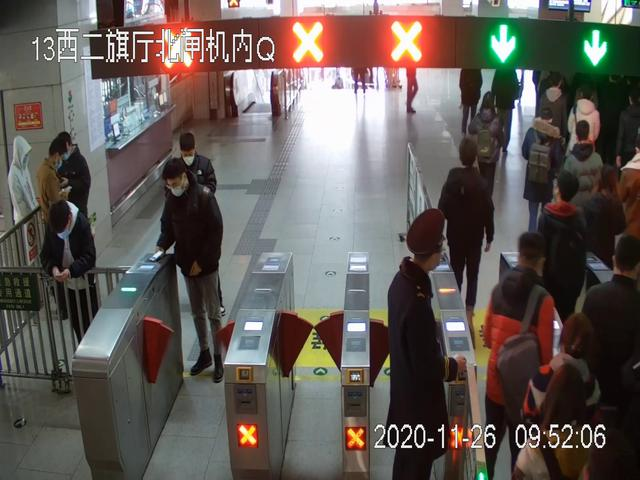person: (384, 210, 467, 480), (484, 233, 554, 480), (513, 313, 617, 478), (151, 160, 225, 383), (439, 137, 494, 338), (41, 200, 97, 358), (538, 171, 587, 340), (8, 135, 49, 303), (521, 108, 566, 240), (468, 91, 505, 209), (491, 65, 523, 155), (458, 66, 482, 138)
